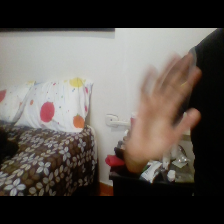left: (125, 47, 200, 173)
